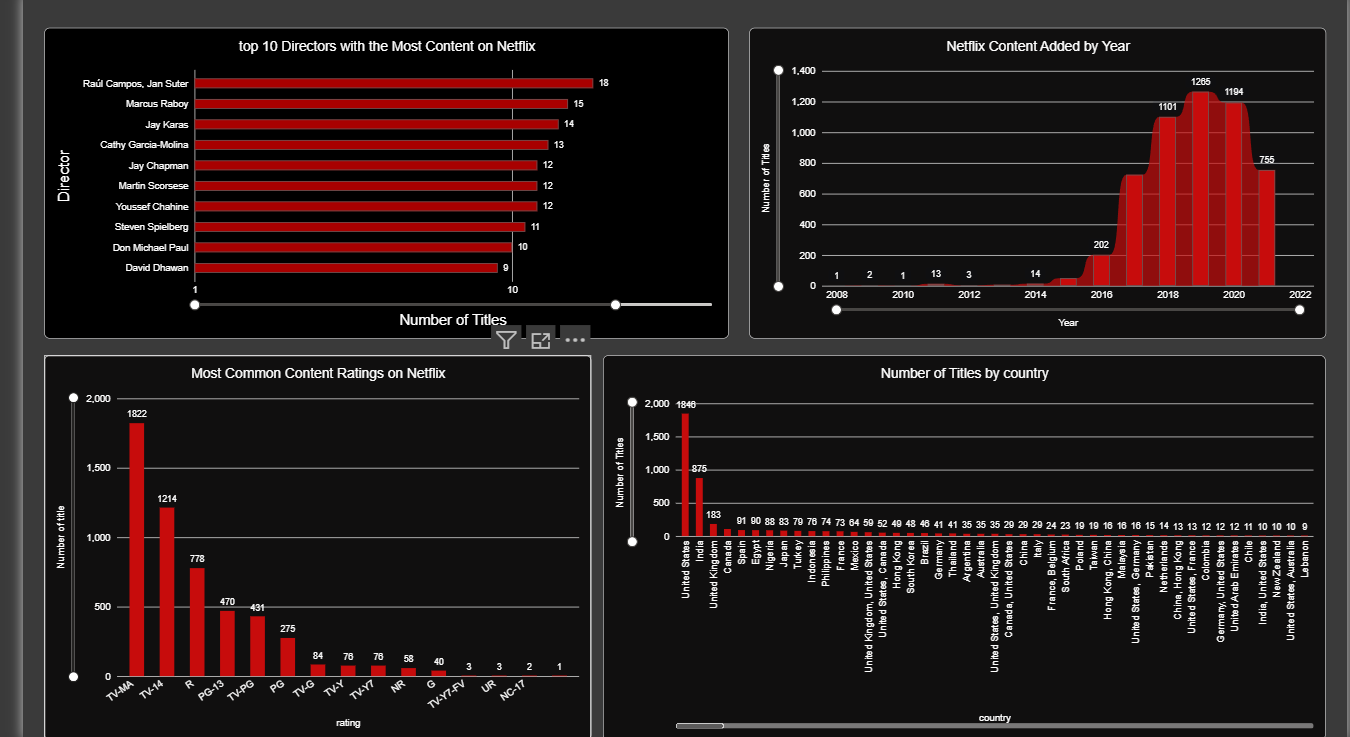

The dashboard page shown, as its layout file describes it:
{"tool":"powerbi","page":{"name":"Page 2","canvas":[1920,1081],"ordinal":1},"visuals":[{"type":"columnChart","fields":{"Category":["netflix_titles_cleaned.country"],"Y":["CountNonNull(netflix_titles_cleaned.title)"]},"box":[840.5,523.5,1047,557.9],"z":1},{"type":"barChart","title":"top 10 Directors with the Most Content on Netflix","fields":{"Category":["netflix_titles_cleaned.director"],"Y":["CountNonNull(netflix_titles_cleaned.title)"]},"box":[30.9,49.4,992.1,450.8],"z":5},{"type":"columnChart","title":"Netflix Content Added by Year","fields":{"Category":["netflix_titles_cleaned.date_added.Variation.Date Hierarchy.Year"],"Y":["CountNonNull(netflix_titles_cleaned.title)"]},"box":[1051.8,49.4,835.7,450.8],"z":6},{"type":"columnChart","title":"Most Common Content Ratings on Netflix","fields":{"Category":["netflix_titles_cleaned.rating"],"Y":["CountNonNull(netflix_titles_cleaned.title)"]},"box":[30.9,522.8,792.5,557.8],"z":7}]}

Visuals, with their boxes on the page's 1920x1081 design canvas (x1, y1, x2, y2). These are canvas units, not pixel positions in the 1350x737 screenshot, which may show the page scaled, cropped or inside an application window:
columnChart - netflix_titles_cleaned.country x CountNonNull(netflix_titles_cleaned.title): x1=840, y1=524, x2=1888, y2=1081
"top 10 Directors with the Most Content on Netflix" barChart: x1=31, y1=49, x2=1023, y2=500
"Netflix Content Added by Year" columnChart: x1=1052, y1=49, x2=1888, y2=500
"Most Common Content Ratings on Netflix" columnChart: x1=31, y1=523, x2=823, y2=1081
